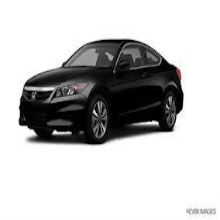no damage: (18, 39, 184, 146)
